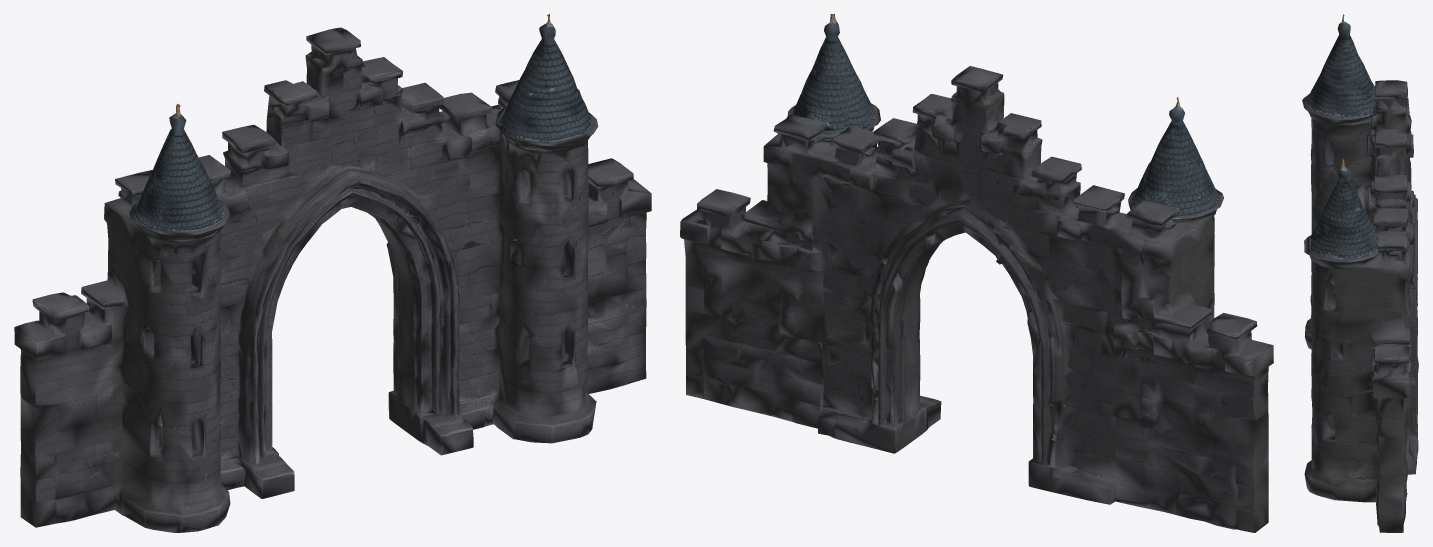
Rendered from gothic_gate.glb.
3 renders of one model, left to right at view 1: azimuth 30°, elevation 25°; view 2: azimuth 150°, elevation 25°; view 3: azimuth 270°, elevation 25°, orthographic. The views are drawn at different scales.
Size of the model in its own units: 1.9 by 1.22 by 0.3921.
1 material, 1 textured.
